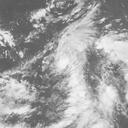cyclone: (42, 41, 99, 102)
